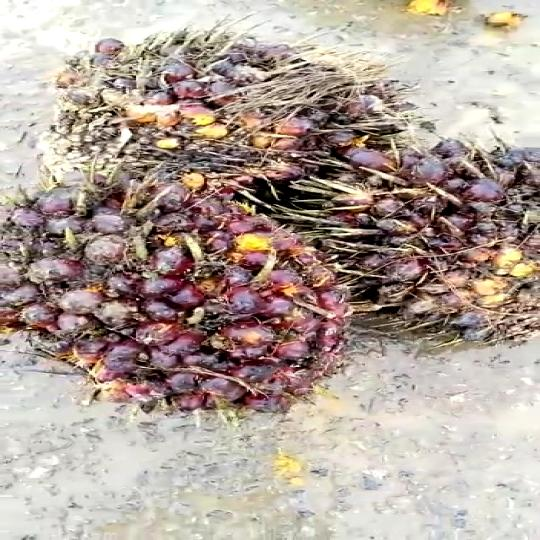kurang masak: (0, 170, 353, 406), (56, 31, 395, 208), (297, 120, 540, 346)
